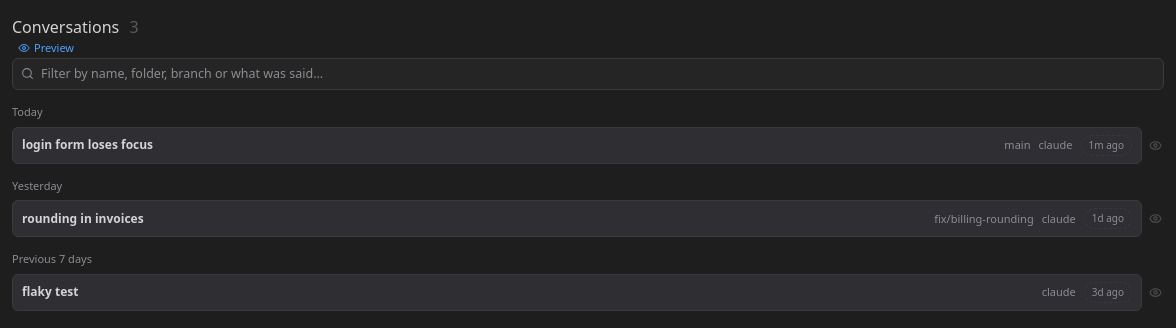
the filter › keeps the timeline, with only what the search found, and the words that matched
Type "cents" into the search field named "Filter conversations". click: (588, 74)
box: [12,58,1164,90]
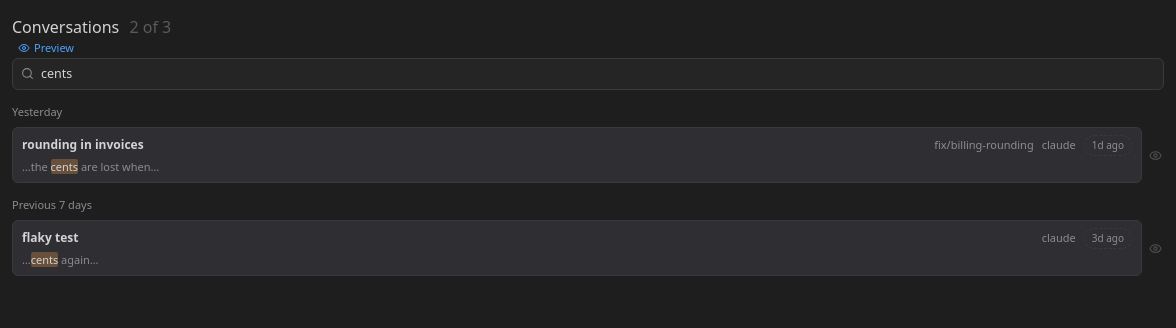
Expected: the headings read "Yesterday", "Previous 7 days", in this order, [12,104,62,119]; [12,197,92,212]
Expected: the text "cents" below "Yesterday" is shown, [50,159,78,174]
Expected: the heading "Conversations 2 of 3 Preview" is shown, [12,16,171,58]
